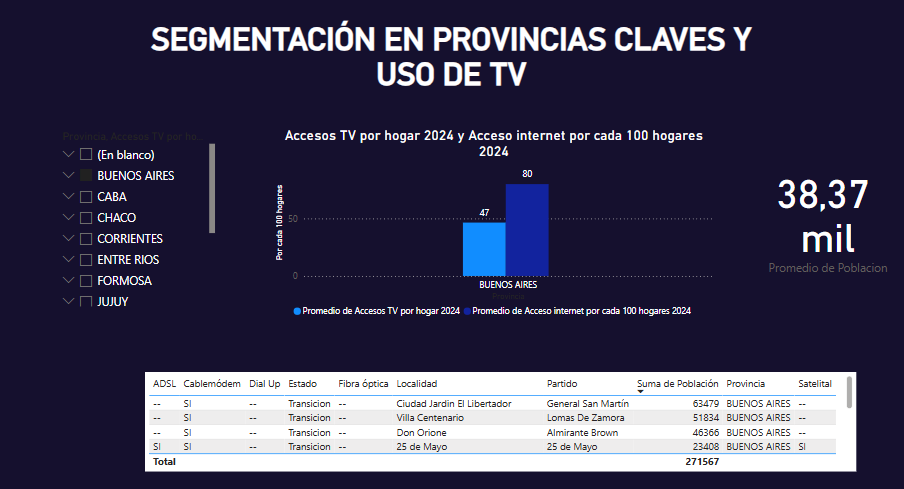

The page's visual inventory and layout, read from the dashboard file:
{"tool":"powerbi","page":{"name":"PROVINCIA","canvas":[1280,720],"ordinal":3},"visuals":[{"type":"textbox","box":[190.1,36,898.6,118.1],"z":0},{"type":"textbox","box":[670.2,320.8,162.9,75.6],"z":1000},{"type":"slicer","fields":{"Values":["Transicion.Provincia","Transicion.Accesos TV por hogar 2024"]},"box":[90.7,187.2,227.5,252],"z":2000},{"type":"lineClusteredColumnComboChart","title":"Accesos TV por hogar 2024 y Acceso internet por cada 100 hogares 2024","fields":{"Category":["Transicion.Provincia"],"Y":["Avg(Transicion.Accesos TV por hogar 2024)","Avg(Transicion.Acceso internet por cada 100 hogares 2024)"]},"box":[391.7,187.2,610.6,272.2],"z":3000},{"type":"card","fields":{"Values":["Avg(Transicion.Poblacion)"]},"box":[1065.6,187.2,184.3,252],"z":4000},{"type":"tableEx","fields":{"Values":["Tabla.ADSL","Tabla.Cablemódem","Tabla.Dial Up","Tabla.Estado","Tabla.Fibra óptica","Tabla.Localidad","Tabla.Partido","Sum(Tabla.Población)","Tabla.Provincia","Tabla.Satelital"]},"box":[217.4,524.2,979.2,136.8],"z":5000}]}

Visuals, with their boxes on the page's 1280x720 design canvas (x1, y1, x2, y2). These are canvas units, not pixel positions in the 904x489 screenshot, which may show the page scaled, cropped or inside an application window:
textbox: 190 36 1089 154
textbox: 670 321 833 396
slicer - Transicion.Provincia x Transicion.Accesos TV por hogar 2024: 91 187 318 439
"Accesos TV por hogar 2024 y Acceso internet por cada 100 hogares 2024" lineClusteredColumnComboChart: 392 187 1002 459
card - Avg(Transicion.Poblacion): 1066 187 1250 439
tableEx - Tabla.ADSL x Tabla.Cablemódem: 217 524 1197 661
